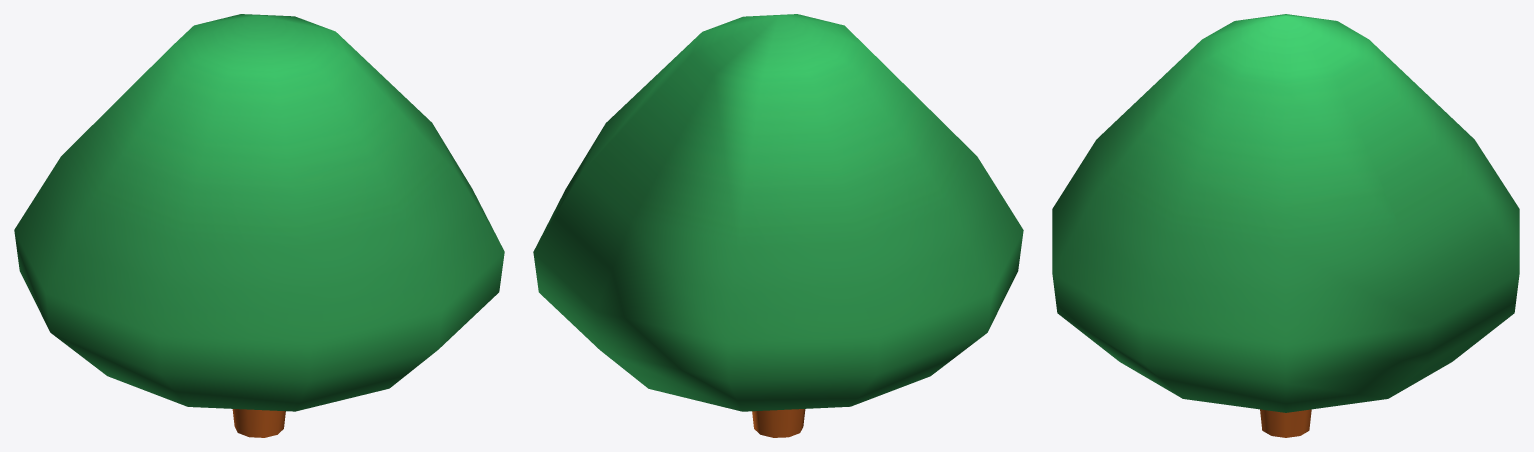
The model's file is Outer tree.fbx.
3 views of the same model, side by side, from view 1: azimuth 30°, elevation 25°; view 2: azimuth 150°, elevation 25°; view 3: azimuth 270°, elevation 25° (orthographic).
Visible parts, largest first — view 1: Outer_tree; view 2: Outer_tree; view 3: Outer_tree.
Boxes of the visible parts, x1=… form: Outer_tree: x1=14, y1=14, x2=504, y2=437; Outer_tree: x1=533, y1=14, x2=1023, y2=437; Outer_tree: x1=1052, y1=14, x2=1519, y2=437.
Size of the model in its own units: 235 by 217 by 224.
1 material, 1 textured.
